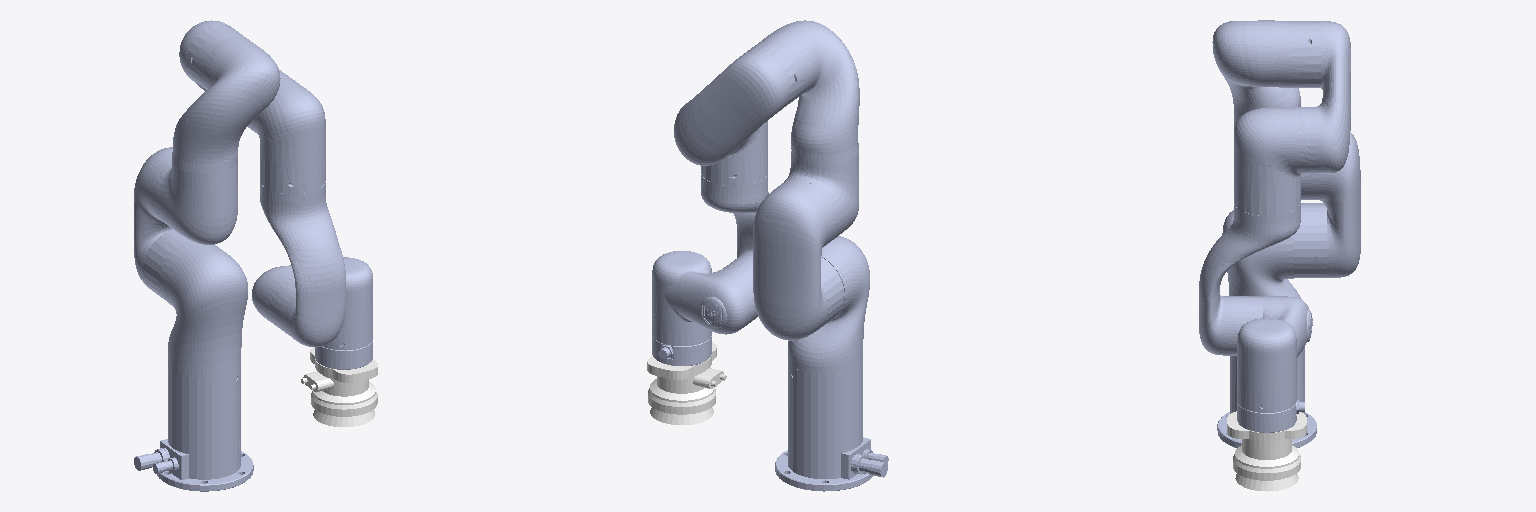
URDF robot description (xArm6):
<?xml version="1.0" encoding="utf-8"?>
<!-- This URDF was automatically created by SolidWorks to URDF Exporter! Originally created by [author] ([email redacted]) 
     Commit Version: 1.6.0-4-g7f85cfe  Build Version: 1.6.7995.38578
     For more information, please see http://wiki.ros.org/sw_urdf_exporter -->
<robot
  name="xArm6">
  <link
    name="base">
    <inertial>
      <origin
        xyz="-0.0014979 9.0552E-05 0.073474"
        rpy="0 0 0" />
      <mass
        value="1.1698" />
      <inertia
        ixx="0.0031725"
        ixy="7.4999E-06"
        ixz="-8.1095E-05"
        iyy="0.0032736"
        iyz="4.911E-06"
        izz="0.0015021" />
    </inertial>
    <visual>
      <origin
        xyz="0 0 0"
        rpy="0 0 0" />
      <geometry>
        <mesh
          filename="package://xArm6/meshes/base.STL" />
      </geometry>
      <material
        name="">
        <color
          rgba="0.79216 0.81961 0.93333 1" />
      </material>
    </visual>
    <collision>
      <origin
        xyz="0 0 0"
        rpy="0 0 0" />
      <geometry>
        <mesh
          filename="package://xArm6/meshes/base.STL" />
      </geometry>
    </collision>
  </link>
  <link
    name="link1">
    <inertial>
      <origin
        xyz="0.00011811 0.0074136 0.085089"
        rpy="0 0 0" />
      <mass
        value="1.3256" />
      <inertia
        ixx="0.0039077"
        ixy="-5.4138E-07"
        ixz="-5.9077E-06"
        iyy="0.0032369"
        iyz="-0.00041284"
        izz="0.0021922" />
    </inertial>
    <visual>
      <origin
        xyz="0 0 0"
        rpy="0 0 0" />
      <geometry>
        <mesh
          filename="package://xArm6/meshes/link1.STL" />
      </geometry>
      <material
        name="">
        <color
          rgba="0.79216 0.81961 0.93333 1" />
      </material>
    </visual>
    <collision>
      <origin
        xyz="0 0 0"
        rpy="0 0 0" />
      <geometry>
        <mesh
          filename="package://xArm6/meshes/link1.STL" />
      </geometry>
    </collision>
  </link>
  <joint
    name="joint1"
    type="revolute">
    <origin
      xyz="0 0 0.1548"
      rpy="0 0 0" />
    <parent
      link="base" />
    <child
      link="link1" />
    <axis
      xyz="0 0 1" />
    <limit
      lower="-3.14"
      upper="3.14"
      effort="30"
      velocity="3.15" />
  </joint>
  <link
    name="link2">
    <inertial>
      <origin
        xyz="0.013529 -0.16507 -0.048714"
        rpy="0 0 0" />
      <mass
        value="2.6935" />
      <inertia
        ixx="0.015114"
        ixy="0.0028282"
        ixz="-0.00014159"
        iyy="0.0043522"
        iyz="-0.00072817"
        izz="0.015671" />
    </inertial>
    <visual>
      <origin
        xyz="0 0 0"
        rpy="0 0 0" />
      <geometry>
        <mesh
          filename="package://xArm6/meshes/link2.STL" />
      </geometry>
      <material
        name="">
        <color
          rgba="0.79216 0.81961 0.93333 1" />
      </material>
    </visual>
    <collision>
      <origin
        xyz="0 0 0"
        rpy="0 0 0" />
      <geometry>
        <mesh
          filename="package://xArm6/meshes/link2.STL" />
      </geometry>
    </collision>
  </link>
  <joint
    name="joint2"
    type="revolute">
    <origin
      xyz="0 0.075316 0.112"
      rpy="-1.5708 0 0.003749" />
    <parent
      link="link1" />
    <child
      link="link2" />
    <axis
      xyz="0 0 1" />
    <limit
      lower="-3.14"
      upper="3.14"
      effort="30"
      velocity="3.15" />
  </joint>
  <link
    name="link3">
    <inertial>
      <origin
        xyz="0.063386 0.081496 -0.029861"
        rpy="0 0 0" />
      <mass
        value="1.3025" />
      <inertia
        ixx="0.0052822"
        ixy="-0.0012908"
        ixz="0.00090165"
        iyy="0.0038842"
        iyz="0.0016205"
        izz="0.0044896" />
    </inertial>
    <visual>
      <origin
        xyz="0 0 0"
        rpy="0 0 0" />
      <geometry>
        <mesh
          filename="package://xArm6/meshes/link3.STL" />
      </geometry>
      <material
        name="">
        <color
          rgba="0.79216 0.81961 0.93333 1" />
      </material>
    </visual>
    <collision>
      <origin
        xyz="0 0 0"
        rpy="0 0 0" />
      <geometry>
        <mesh
          filename="package://xArm6/meshes/link3.STL" />
      </geometry>
    </collision>
  </link>
  <joint
    name="joint3"
    type="revolute">
    <origin
      xyz="0.053313 -0.28455 -0.0083026"
      rpy="0 0 0" />
    <parent
      link="link2" />
    <child
      link="link3" />
    <axis
      xyz="0 0 1" />
    <limit
      lower="-3.14"
      upper="3.14"
      effort="30"
      velocity="3.15" />
  </joint>
  <link
    name="link4">
    <inertial>
      <origin
        xyz="0.00010439 0.032497 0.10205"
        rpy="0 0 0" />
      <mass
        value="0.78957" />
      <inertia
        ixx="0.0043745"
        ixy="1.9891E-06"
        ixz="-7.3514E-07"
        iyy="0.0039417"
        iyz="-0.00089191"
        izz="0.0010384" />
    </inertial>
    <visual>
      <origin
        xyz="0 0 0"
        rpy="0 0 0" />
      <geometry>
        <mesh
          filename="package://xArm6/meshes/link4.STL" />
      </geometry>
      <material
        name="">
        <color
          rgba="0.79216 0.81961 0.93333 1" />
      </material>
    </visual>
    <collision>
      <origin
        xyz="0 0 0"
        rpy="0 0 0" />
      <geometry>
        <mesh
          filename="package://xArm6/meshes/link4.STL" />
      </geometry>
    </collision>
  </link>
  <joint
    name="joint4"
    type="revolute">
    <origin
      xyz="0.077763 0.16919 -0.067495"
      rpy="-1.5708 0.003749 0" />
    <parent
      link="link3" />
    <child
      link="link4" />
    <axis
      xyz="0 0 1" />
    <limit
      lower="-3.14"
      upper="3.14"
      effort="30"
      velocity="3.15" />
  </joint>
  <link
    name="link5">
    <inertial>
      <origin
        xyz="0.048928 0.011131 0.013355"
        rpy="0 0 0" />
      <mass
        value="0.72305" />
      <inertia
        ixx="0.00084167"
        ixy="-0.00021771"
        ixz="0.00027647"
        iyy="0.0014545"
        iyz="7.2752E-05"
        izz="0.0016684" />
    </inertial>
    <visual>
      <origin
        xyz="0 0 0"
        rpy="0 0 0" />
      <geometry>
        <mesh
          filename="package://xArm6/meshes/link5.STL" />
      </geometry>
      <material
        name="">
        <color
          rgba="0.79216 0.81961 0.93333 1" />
      </material>
    </visual>
    <collision>
      <origin
        xyz="0 0 0"
        rpy="0 0 0" />
      <geometry>
        <mesh
          filename="package://xArm6/meshes/link5.STL" />
      </geometry>
    </collision>
  </link>
  <joint
    name="joint5"
    type="revolute">
    <origin
      xyz="0.0001665 0.0048221 0.173"
      rpy="1.5708 0 -0.003749" />
    <parent
      link="link4" />
    <child
      link="link5" />
    <axis
      xyz="0 0 1" />
    <limit
      lower="-3.14"
      upper="3.14"
      effort="30"
      velocity="3.15" />
  </joint>
  <link
    name="link6">
    <inertial>
      <origin
        xyz="-4.1625E-06 -0.0011103 0.013115"
        rpy="0 0 0" />
      <mass
        value="0.11879" />
      <inertia
        ixx="4.8608E-05"
        ixy="1.383E-09"
        ixz="-3.0099E-10"
        iyy="4.8977E-05"
        iyz="-8.0285E-08"
        izz="8.3202E-05" />
    </inertial>
    <visual>
      <origin
        xyz="0 0 0"
        rpy="0 0 0" />
      <geometry>
        <mesh
          filename="package://xArm6/meshes/link6.STL" />
      </geometry>
      <material
        name="">
        <color
          rgba="0.79216 0.81961 0.93333 1" />
      </material>
    </visual>
    <collision>
      <origin
        xyz="0 0 0"
        rpy="0 0 0" />
      <geometry>
        <mesh
          filename="package://xArm6/meshes/link6.STL" />
      </geometry>
    </collision>
  </link>
  <joint
    name="joint6"
    type="revolute">
    <origin
      xyz="0.075994 0.068523 0.0043389"
      rpy="-1.5708 0.003749 0" />
    <parent
      link="link5" />
    <child
      link="link6" />
    <axis
      xyz="0 0 1" />
    <limit
      lower="-3.14"
      upper="3.14"
      effort="30"
      velocity="3.15" />
  </joint>
  <link
    name="tool">
    <inertial>
      <origin
        xyz="-0.001175 4.4023E-06 0.039865"
        rpy="0 0 0" />
      <mass
        value="0.36732" />
      <inertia
        ixx="0.00036255"
        ixy="-4.0486E-08"
        ixz="-6.6175E-06"
        iyy="0.00035177"
        iyz="2.4756E-08"
        izz="0.00029573" />
    </inertial>
    <visual>
      <origin
        xyz="0 0 0"
        rpy="0 0 0" />
      <geometry>
        <mesh
          filename="package://xArm6/meshes/tool.STL" />
      </geometry>
      <material
        name="">
        <color
          rgba="1 1 1 1" />
      </material>
    </visual>
    <collision>
      <origin
        xyz="0 0 0"
        rpy="0 0 0" />
      <geometry>
        <mesh
          filename="package://xArm6/meshes/tool.STL" />
      </geometry>
    </collision>
  </link>
  <joint
    name="jointe"
    type="revolute">
    <origin
      xyz="0 0 0.028"
      rpy="0 0 0" />
    <parent
      link="link6" />
    <child
      link="tool" />
    <axis
      xyz="0 0 1" />
    <limit
      lower="-3.14"
      upper="3.14"
      effort="30"
      velocity="3.15" />
  </joint>
</robot>

--- Facts derived from the render (not from the file) ---
The picture shows the robot from 3 angles, left to right: view 1: azimuth 30°, elevation 25°; view 2: azimuth 150°, elevation 25°; view 3: azimuth 270°, elevation 25°; orthographic projection.
Model xArm6 with 8 links and 7 joints (7 revolute), rooted at base, posed all joints at 0.
Visible links, largest first — view 1: link2, link1, link4, base, link3, tool, link5, link6; view 2: link2, link3, base, link5, link1, tool, link4, link6; view 3: link2, link3, link5, link4, link1, tool, base, link6.
Boxes of the visible links, x1=… form: link2: x1=134, y1=25, x2=280, y2=288; link1: x1=143, y1=229, x2=247, y2=377; link4: x1=260, y1=181, x2=345, y2=346; base: x1=134, y1=366, x2=253, y2=491; link3: x1=179, y1=20, x2=325, y2=193; tool: x1=301, y1=347, x2=377, y2=426; link5: x1=252, y1=257, x2=372, y2=350; link6: x1=315, y1=341, x2=372, y2=369; link2: x1=744, y1=20, x2=859, y2=340; link3: x1=674, y1=51, x2=790, y2=185; base: x1=775, y1=362, x2=888, y2=491; link5: x1=652, y1=251, x2=757, y2=345; link1: x1=788, y1=236, x2=869, y2=374; tool: x1=647, y1=342, x2=726, y2=424; link4: x1=701, y1=174, x2=768, y2=278; link6: x1=652, y1=336, x2=711, y2=365; link2: x1=1212, y1=20, x2=1360, y2=277; link3: x1=1234, y1=21, x2=1350, y2=215; link5: x1=1237, y1=296, x2=1312, y2=412; link4: x1=1199, y1=202, x2=1300, y2=355; link1: x1=1222, y1=203, x2=1326, y2=298; tool: x1=1227, y1=411, x2=1306, y2=491; base: x1=1217, y1=347, x2=1316, y2=447; link6: x1=1237, y1=400, x2=1304, y2=432.
Bounding box of the posed robot: 0.3428 × 0.2053 × 0.5941 m (x, y, z).
Meshes: 8 distinct files referenced, 8 mesh visuals loaded (8 binary STL).